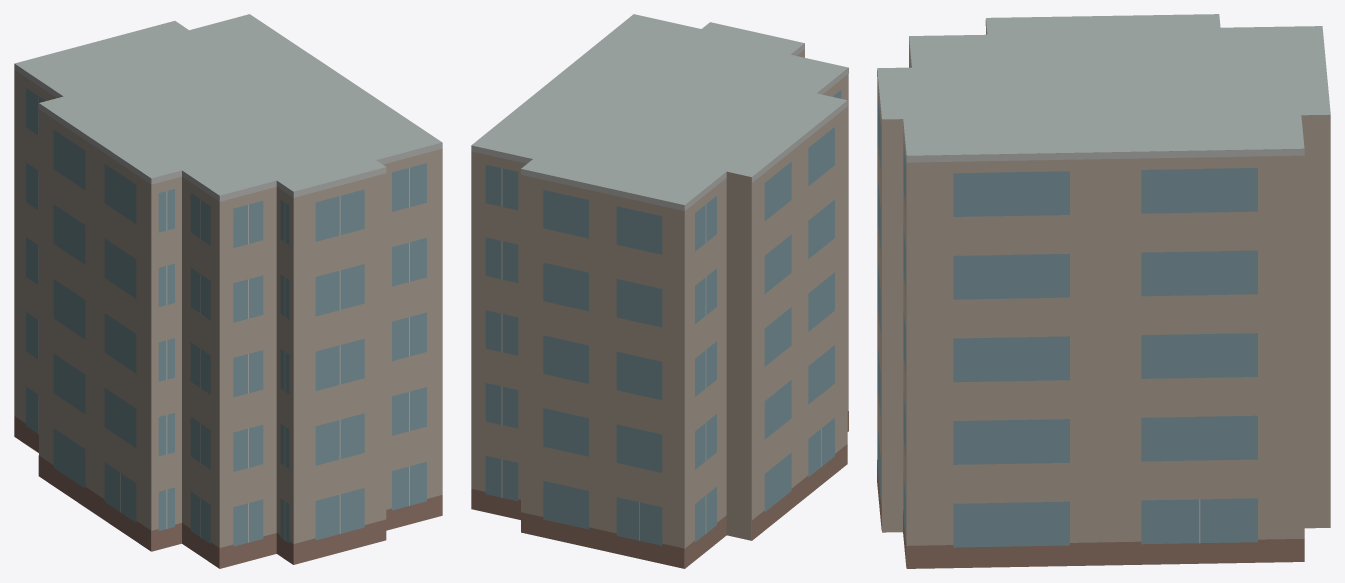
File: survey-upis-33002719.glb
The picture shows the model from 3 angles, left to right: view 1: azimuth 30°, elevation 25°; view 2: azimuth 150°, elevation 25°; view 3: azimuth 270°, elevation 25°; orthographic projection. The views are drawn at different scales.
Visible parts, largest first — view 1: survey-upis-33002719.tmp; view 2: survey-upis-33002719.tmp; view 3: survey-upis-33002719.tmp.
Boxes of the visible parts, x1,y1,x2,y2 form: survey-upis-33002719.tmp: [14, 14, 442, 568]; survey-upis-33002719.tmp: [471, 14, 848, 568]; survey-upis-33002719.tmp: [877, 14, 1330, 568].
Size of the model in its own units: 10.83 by 14.7 by 14.64.
